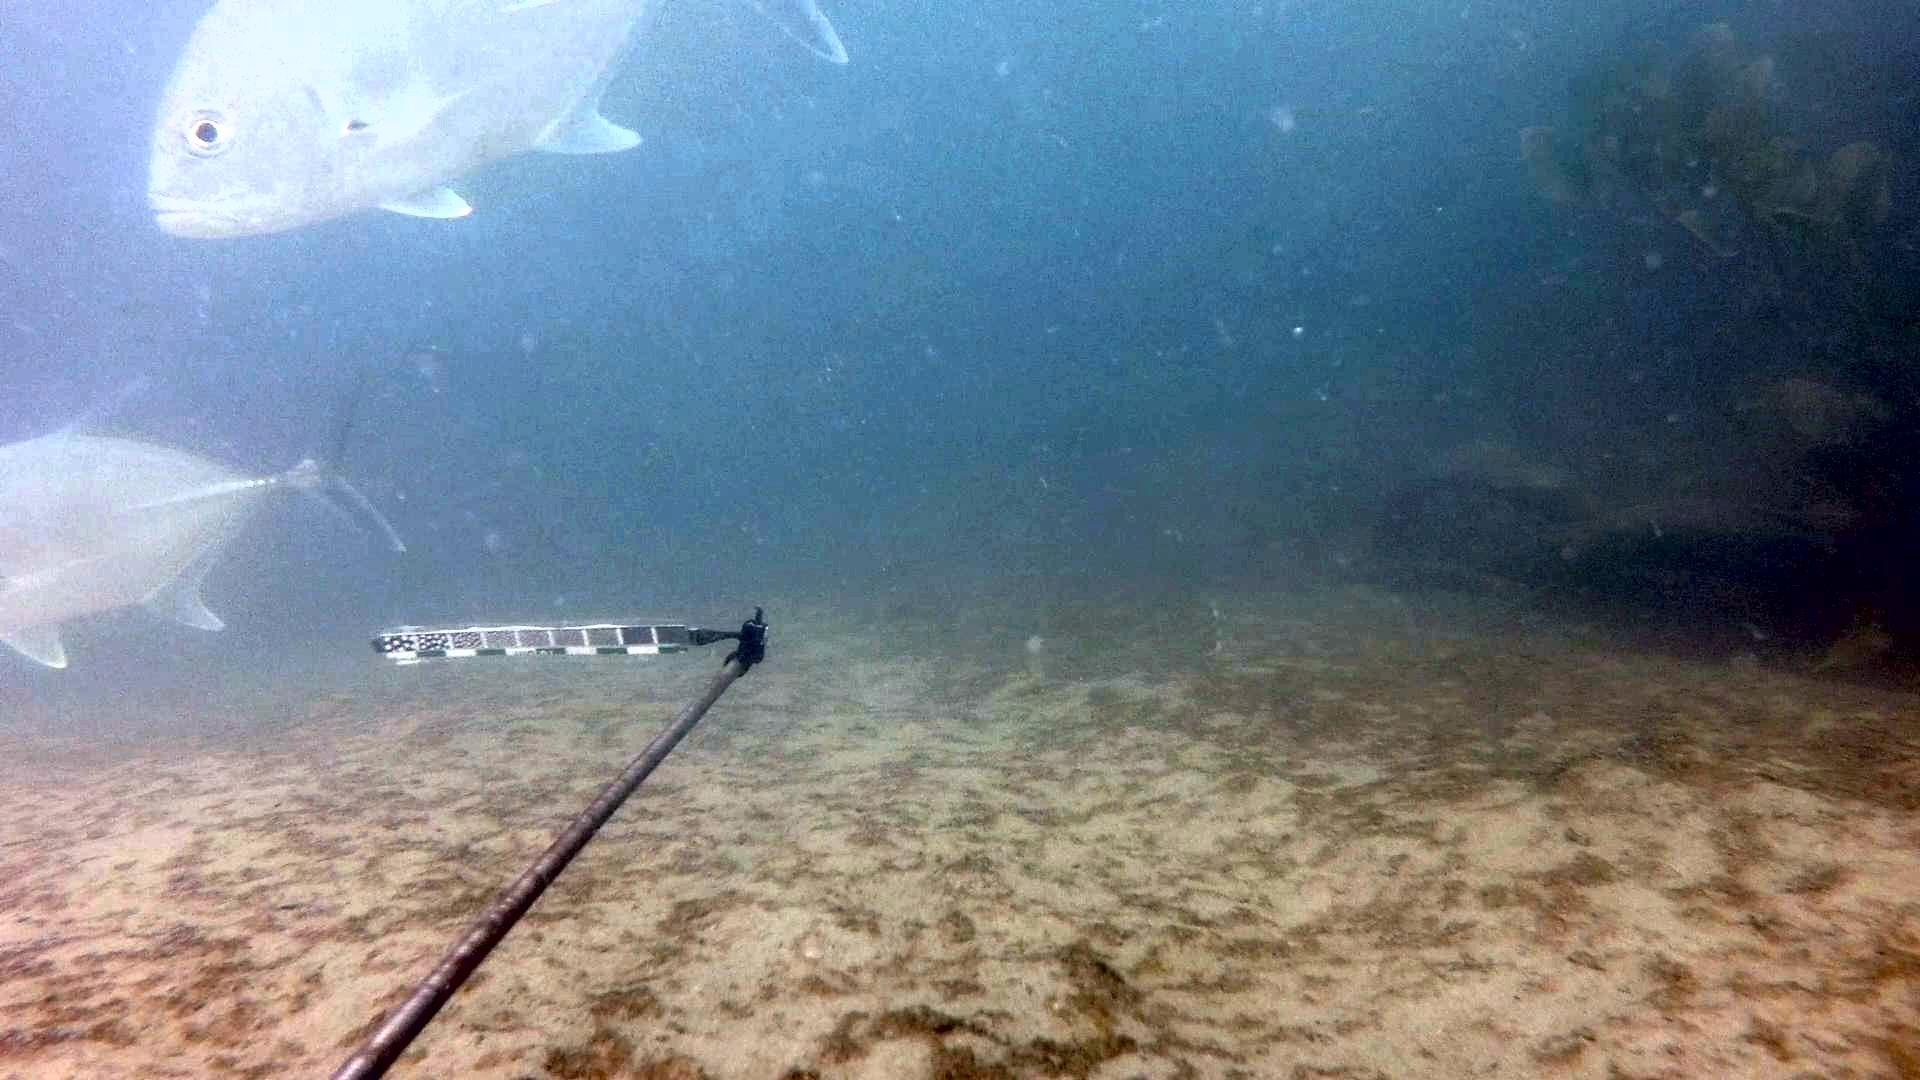caranx: (136, 0, 870, 249), (0, 353, 409, 680)
